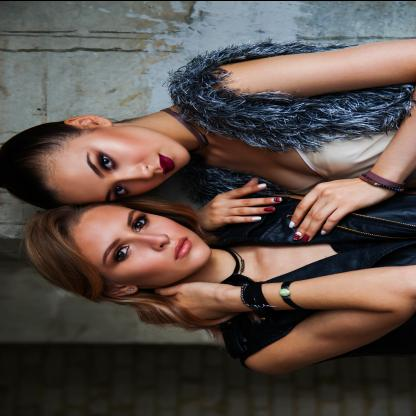Eye: (98, 151, 116, 170), (114, 243, 131, 262), (132, 215, 150, 231), (114, 182, 129, 197)
Mouth: (173, 236, 192, 260), (158, 152, 175, 174)
Nose: (118, 162, 154, 180), (135, 233, 170, 250)
